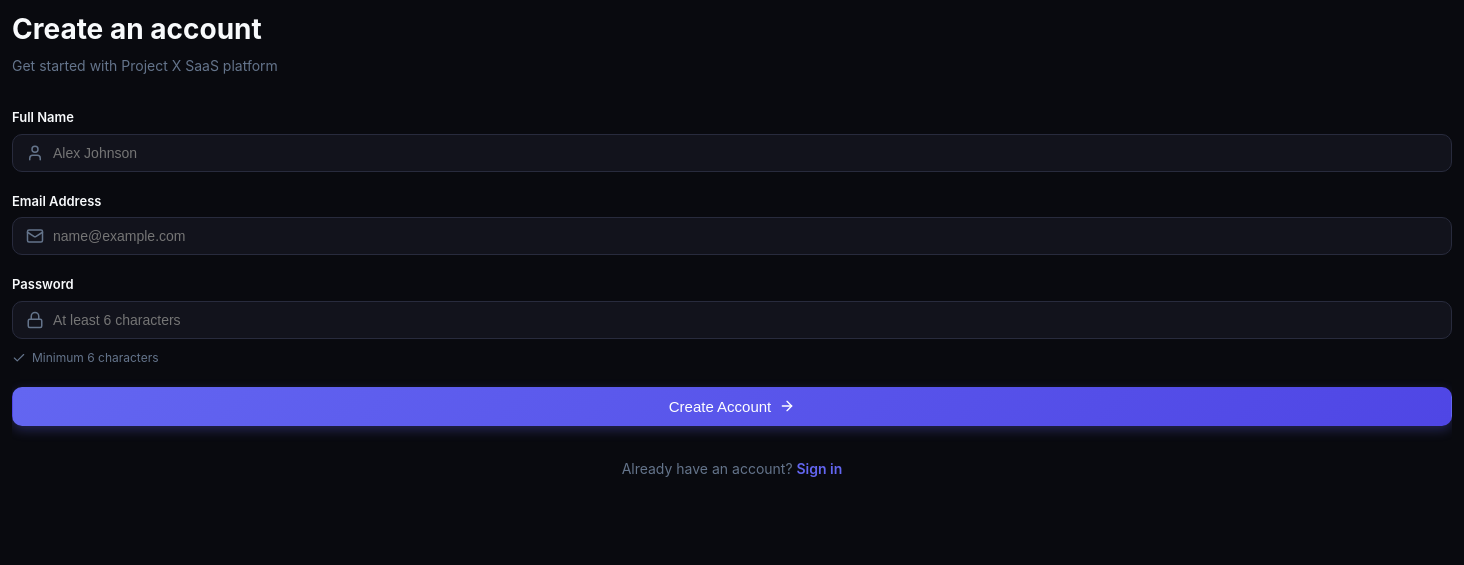
Test: RegisterPage › displays ApiError message when registration fails
Step 1. Type "Alex Doe" into the field labelled "Full Name" → (732, 152), box [12,134,1452,172]
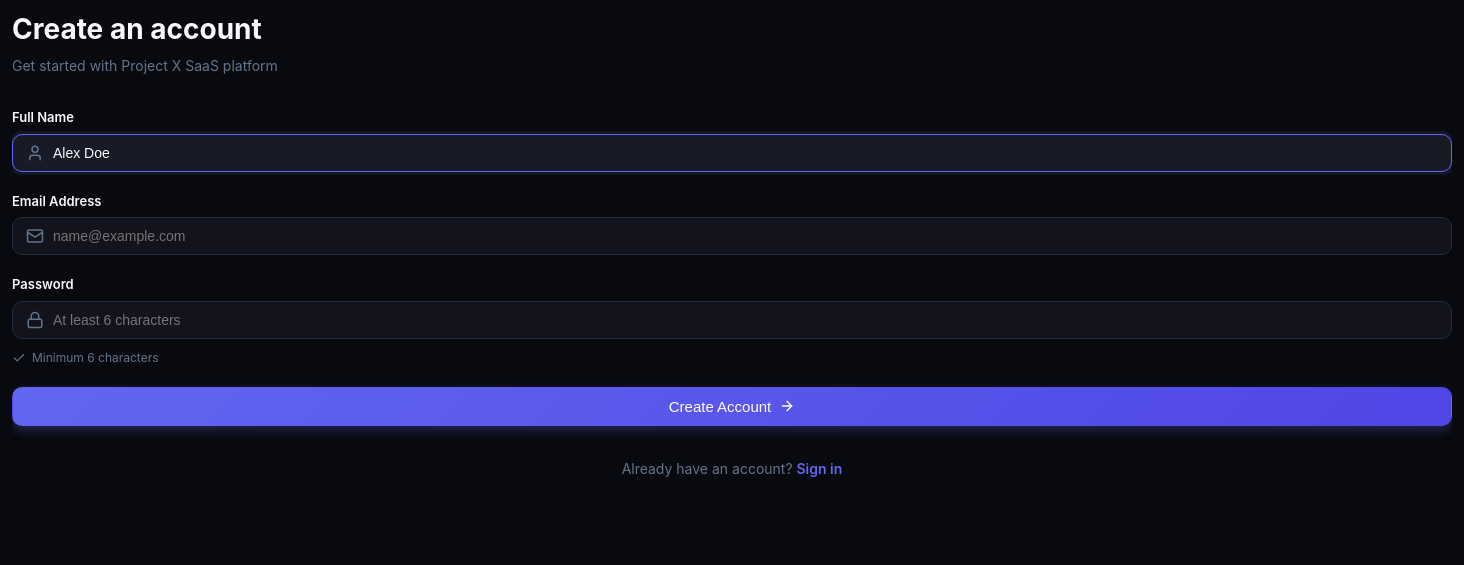
Step 2. Type "alex@example.com" into the field labelled "Email Address" → (732, 236), box [12,217,1452,255]
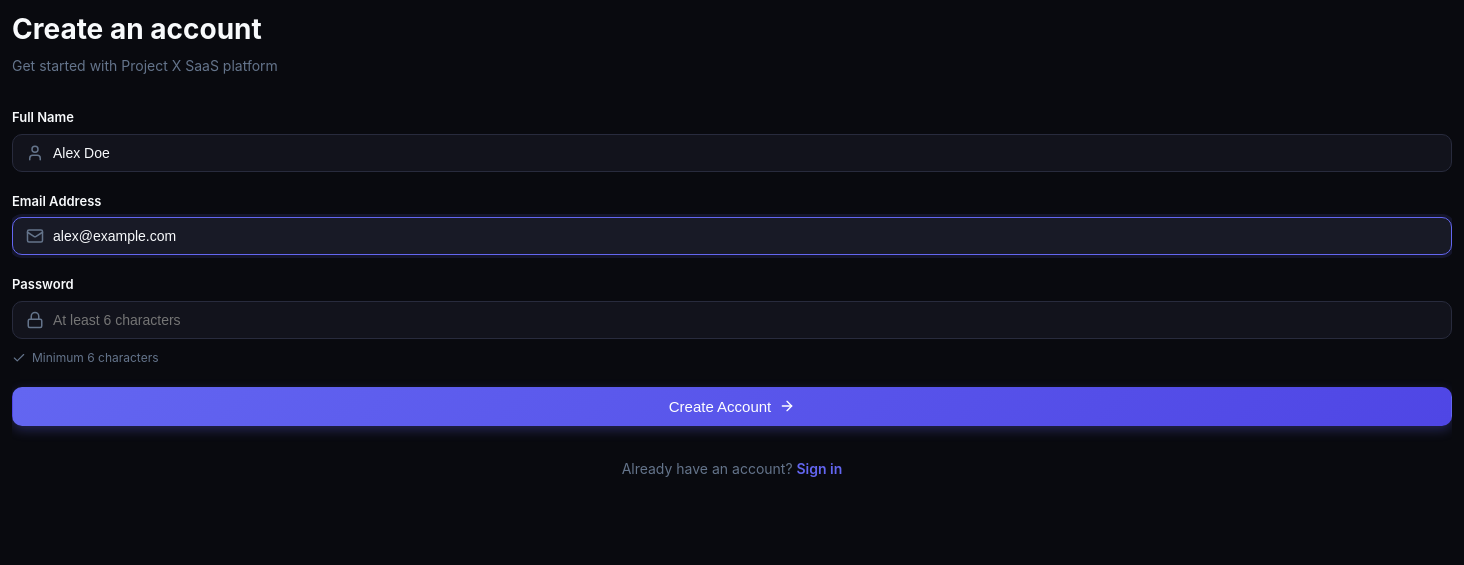
Step 3. Type "password123" into the password field labelled "Password" → (732, 320), box [12,300,1452,338]
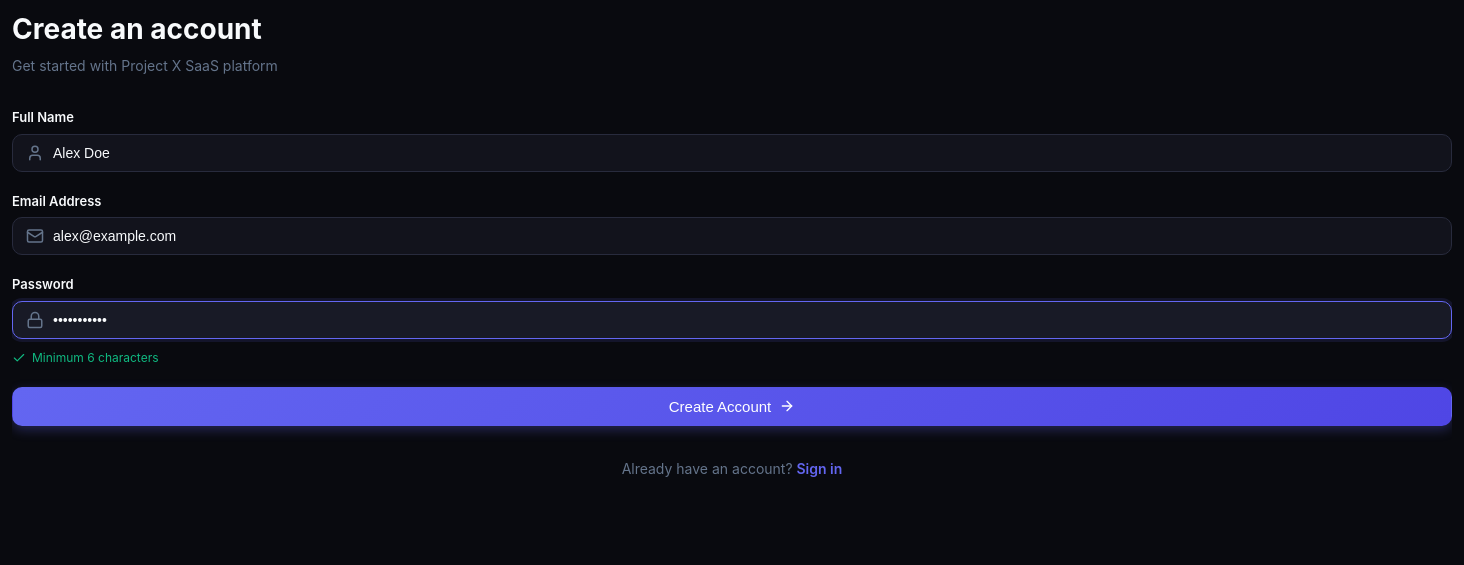
Step 4. Click the button "Create Account" → (732, 406), box [12,386,1452,426]
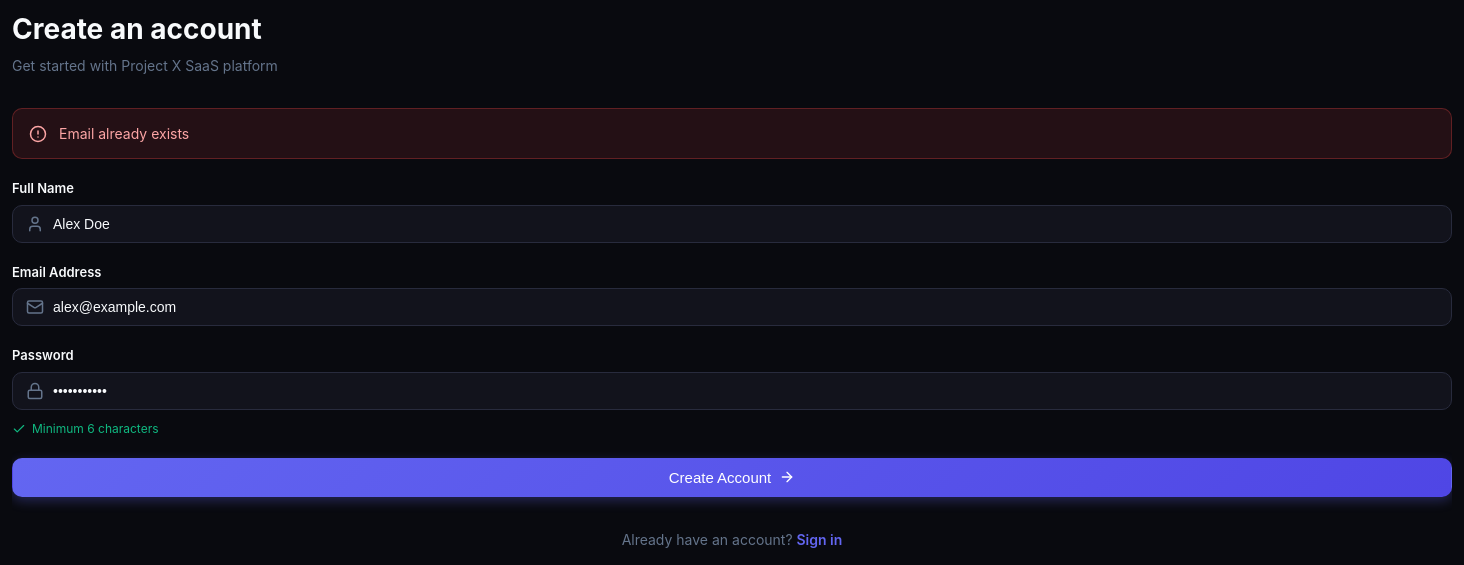
Now the text "Email already exists" is shown, box [59,123,189,144]
